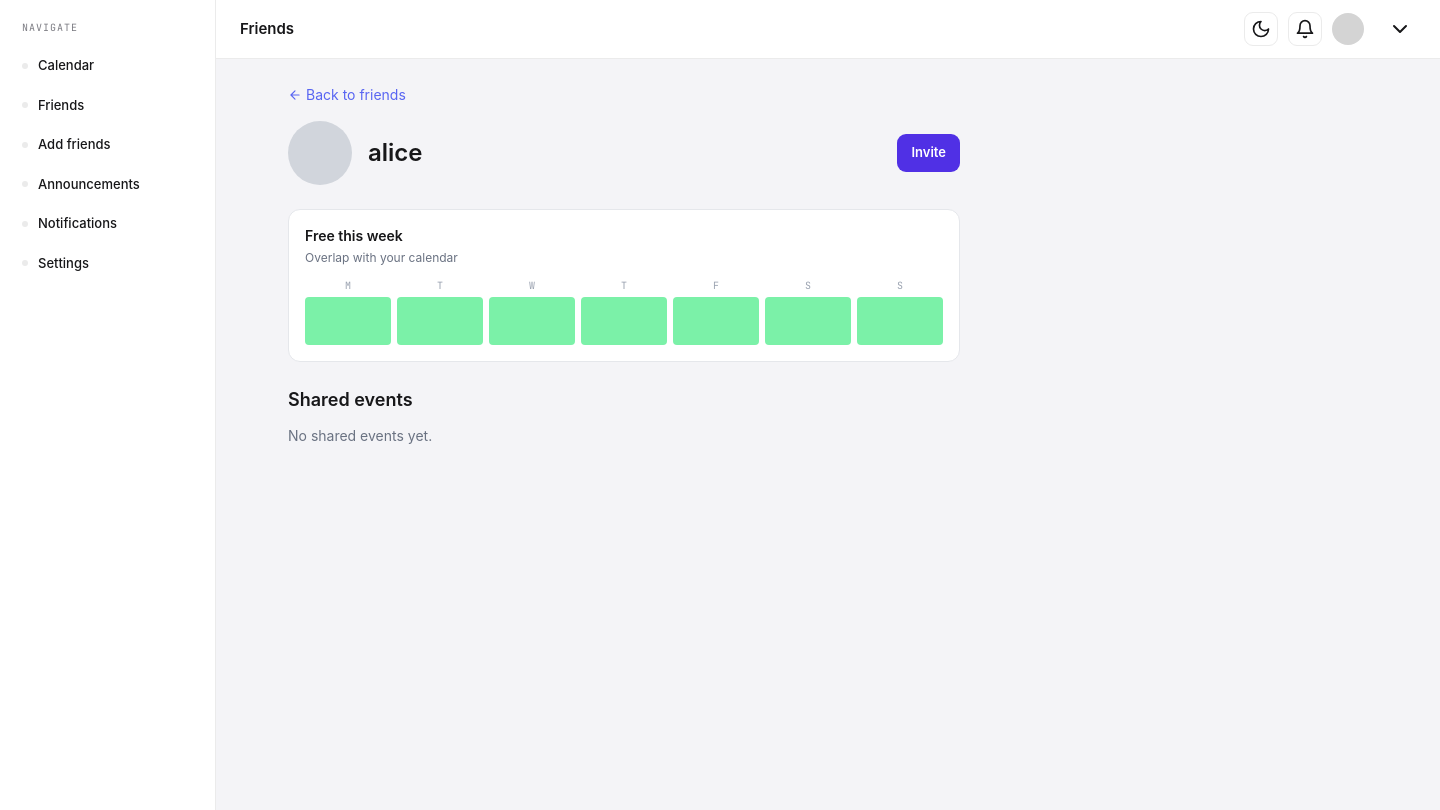
Test case: friend detail page › inviting them to something › suggests a time you are both free, scoped to that friend
Click the button "Invite" at (929,153), box [898, 134, 960, 172]
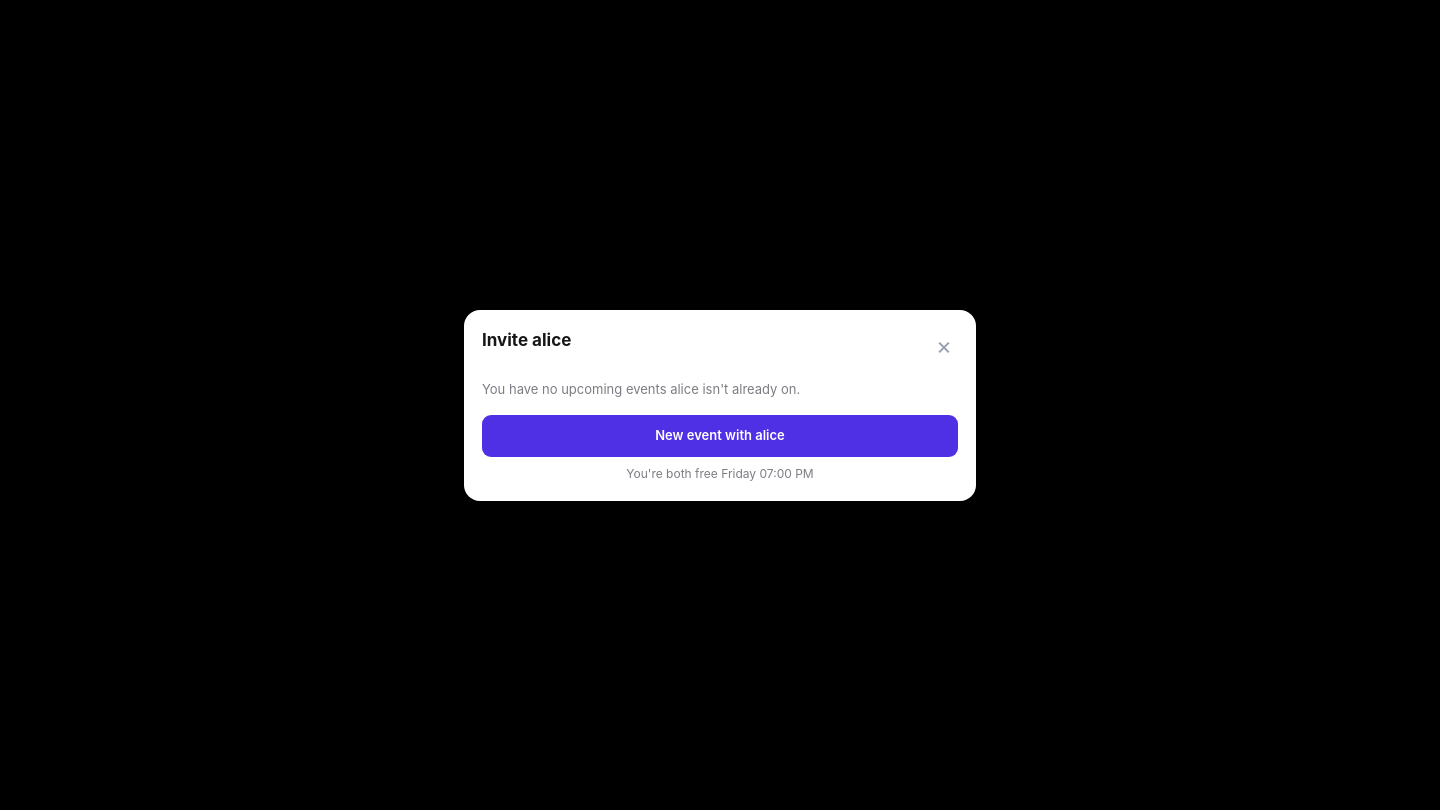
Expected: the dialog is shown, [464, 310, 976, 500]
Expected: the text "You're both free Friday 07:00 PM" is shown, [626, 466, 814, 480]
